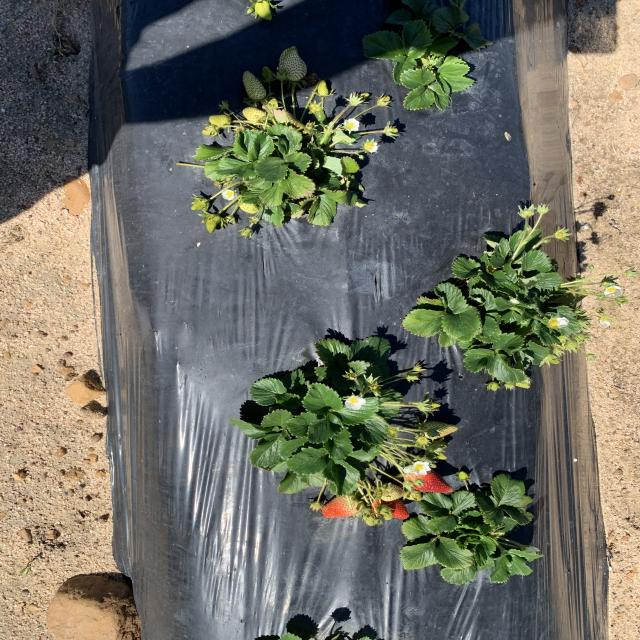unripe: (402, 469, 454, 494), (322, 493, 362, 518), (373, 495, 408, 519)
